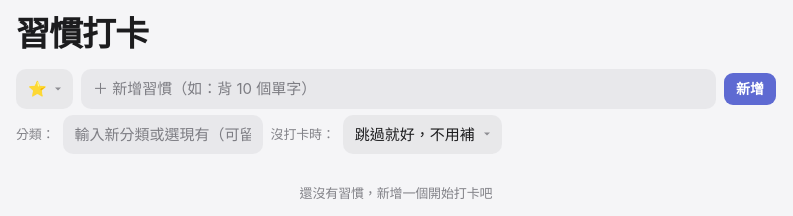
Test case: 習慣頁新增習慣的 IME／防重／寫入／刷新邊界 › 寫入或刷新尚未結束前，連點／重入送出都不會建立第二筆
Type "背單字" into the field with placeholder "＋ 新增習慣（如：背 10 個單字）".
click(398, 89); type("背單字")  # box [81,69,716,109]
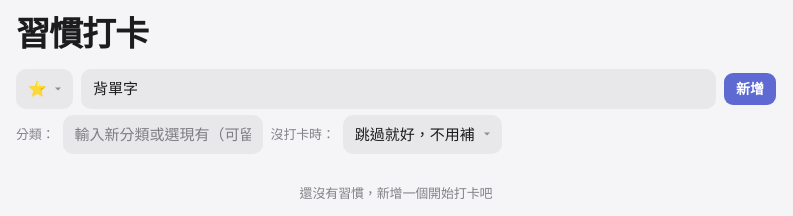
Submit the form with placeholder "＋ 新增習慣（如：背 10 個單字）", box [16,69,776,154]
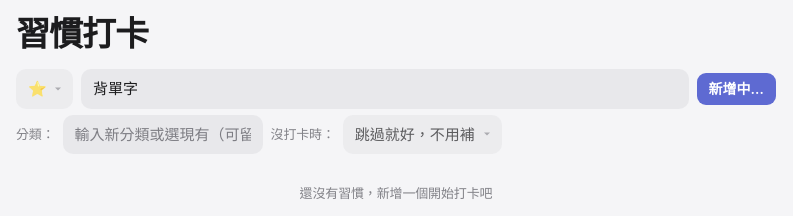
Expected: the field with placeholder "＋ 新增習慣（如：背 10 個單字）" is disabled, [81,69,689,109]
Expected: the button "新增中…" is disabled, [697,72,776,105]
Submit the form with placeholder "＋ 新增習慣（如：背 10 個單字）", box [16,69,776,154]
Click the button "新增中…".
click(736, 89)  # box [697,72,776,105]
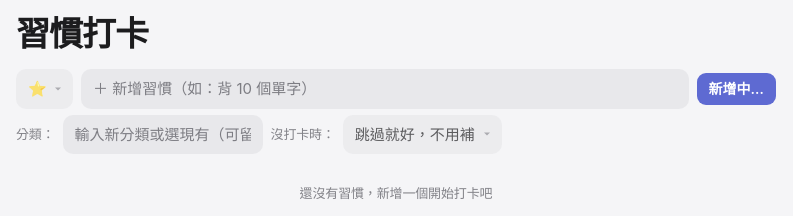
Submit the form with placeholder "＋ 新增習慣（如：背 10 個單字）", box [16,69,776,154]
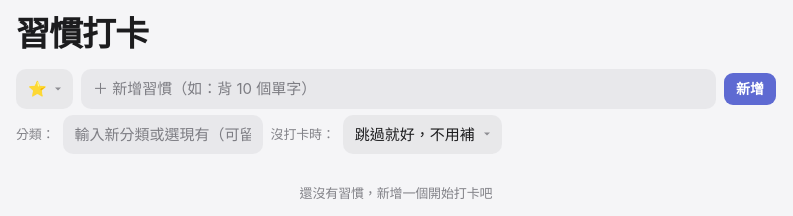
Expected: the button "新增" is enabled, [724,72,776,105]
